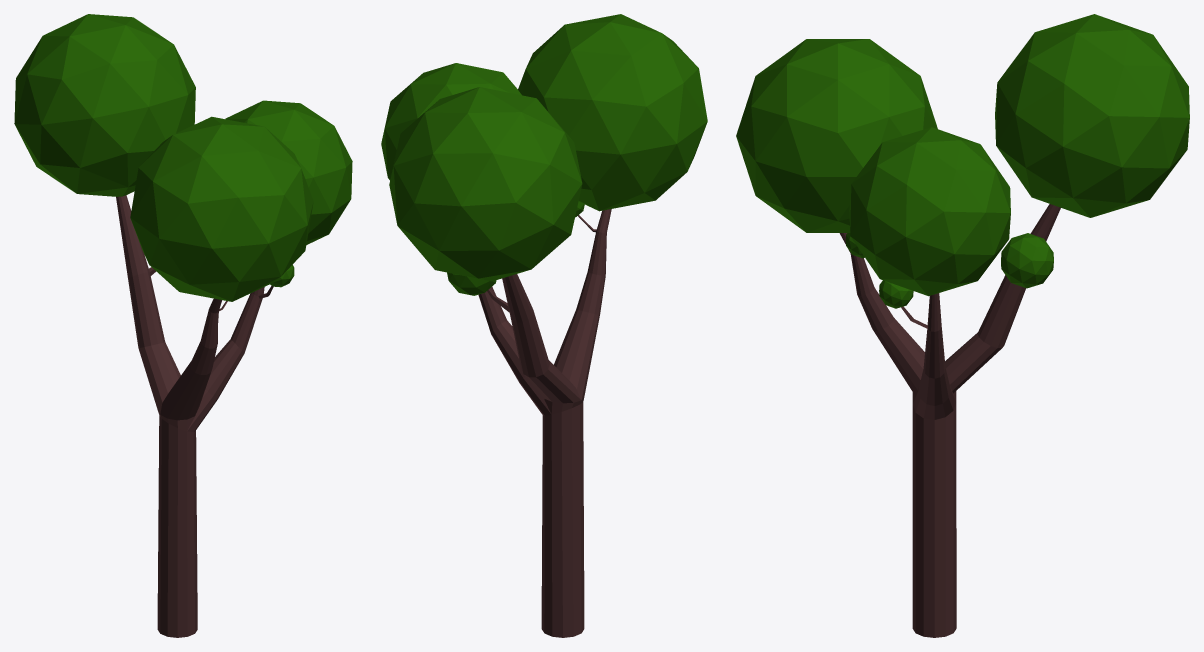
Rendered from Arbol1.fbx.
The picture shows the model from 3 angles, left to right: view 1: azimuth 30°, elevation 25°; view 2: azimuth 150°, elevation 25°; view 3: azimuth 270°, elevation 25°; orthographic projection. The views are drawn at different scales.
Visible parts, largest first — view 1: Leafs, Wooden_Log; view 2: Leafs, Wooden_Log; view 3: Leafs, Wooden_Log.
Boxes of the visible parts, box(x1,y1,x2,y2) form: Leafs: box(14, 14, 352, 301); Wooden_Log: box(116, 195, 273, 637); Leafs: box(381, 14, 707, 295); Wooden_Log: box(478, 209, 611, 637); Leafs: box(736, 14, 1189, 308); Wooden_Log: box(839, 204, 1060, 637).
Size of the model in its own units: 685 by 1517 by 1035.
